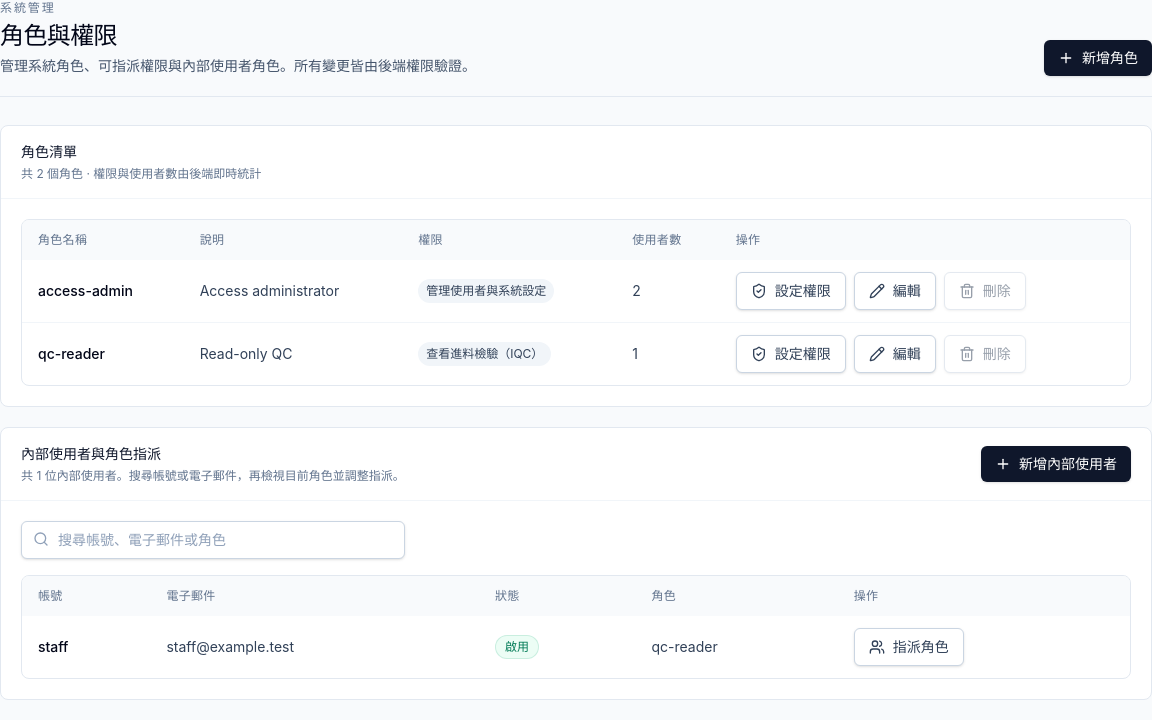
Scenario: roles and permissions admin page › saves role permissions with the selected permission ids
Check: the text "access-admin" is shown, box [22, 260, 184, 322]
Click the button with aria-label "設定權限 access-admin". click: (791, 291)
box: [736, 272, 846, 310]
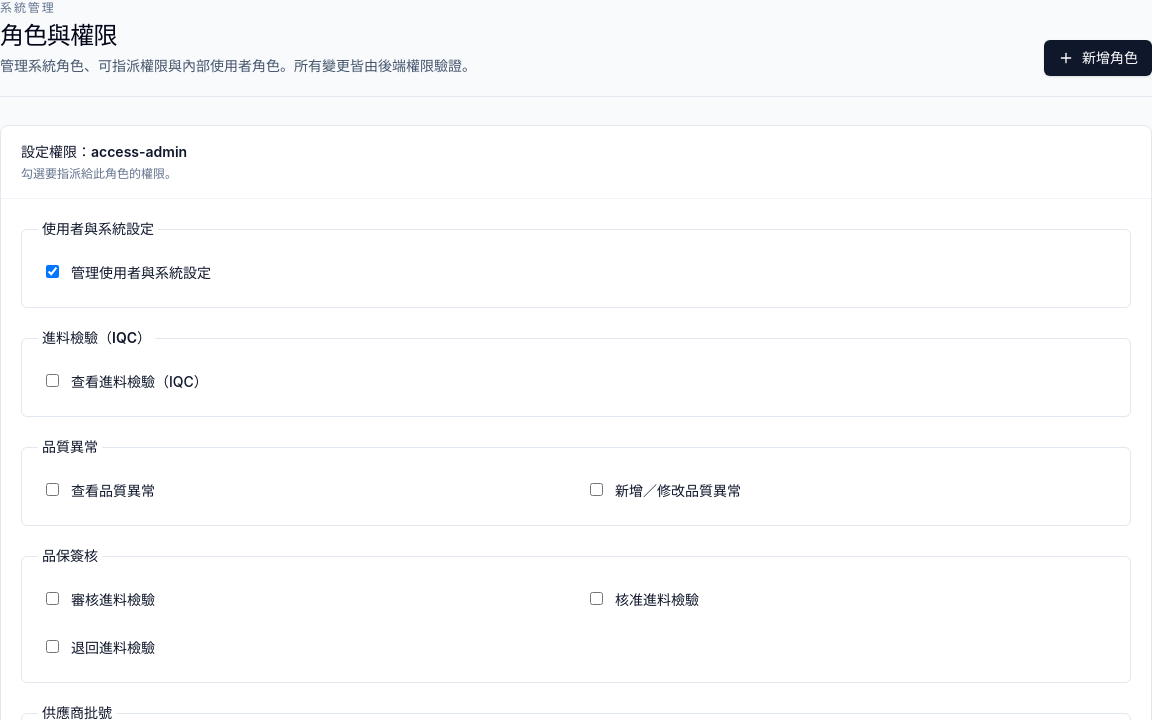
Check: the text "品質異常" is shown, box [38, 437, 102, 457]
Check: the checkbox labelled "查看品質異常" is shown, box [46, 483, 59, 496]
Check: the checkbox labelled "新增／修改品質異常" is shown, box [590, 483, 603, 496]
Click the checkbox named "讀取 IQC". click: (52, 380)
box: [46, 374, 59, 387]
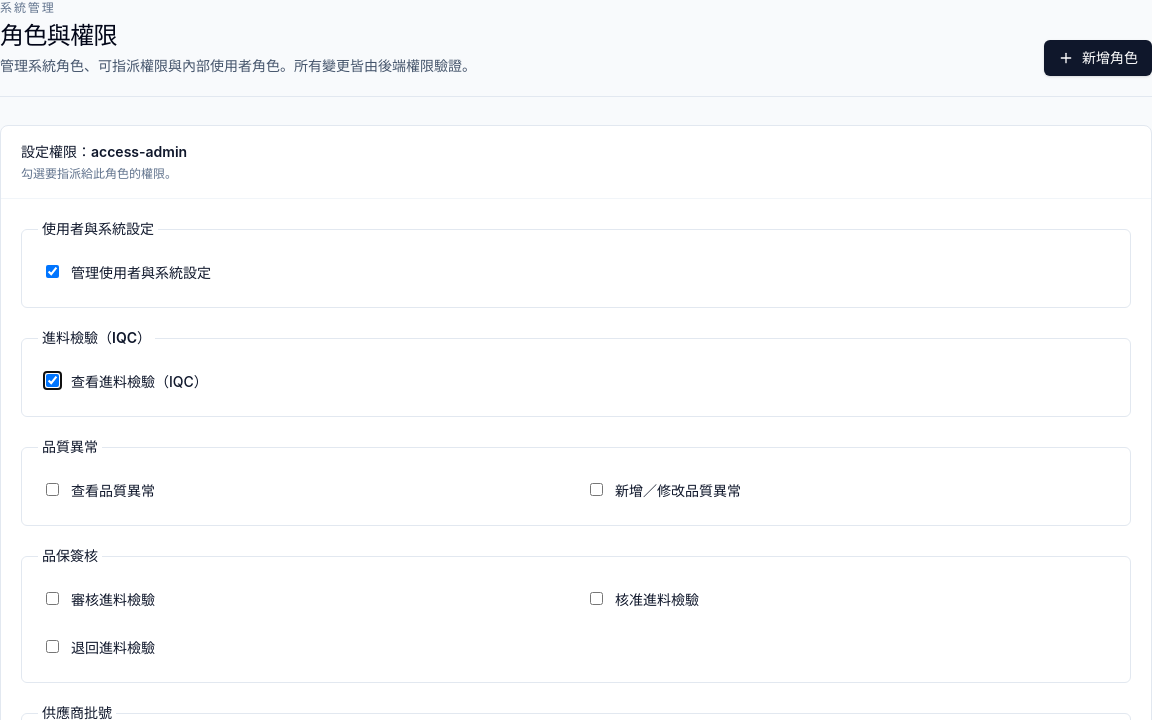
Click the checkbox labelled "查看品質異常". click: (52, 490)
box: [46, 483, 59, 496]
(page scrolled)
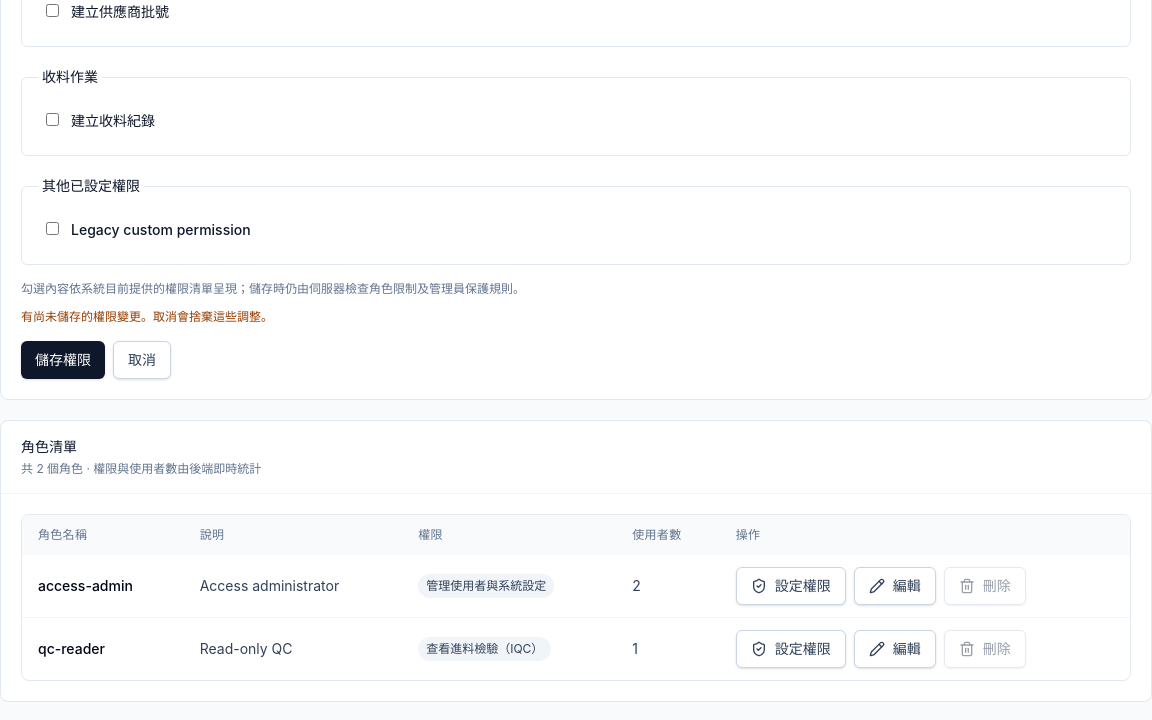
Click the button "儲存權限". click: (63, 360)
box: [21, 341, 105, 379]
(page scrolled)
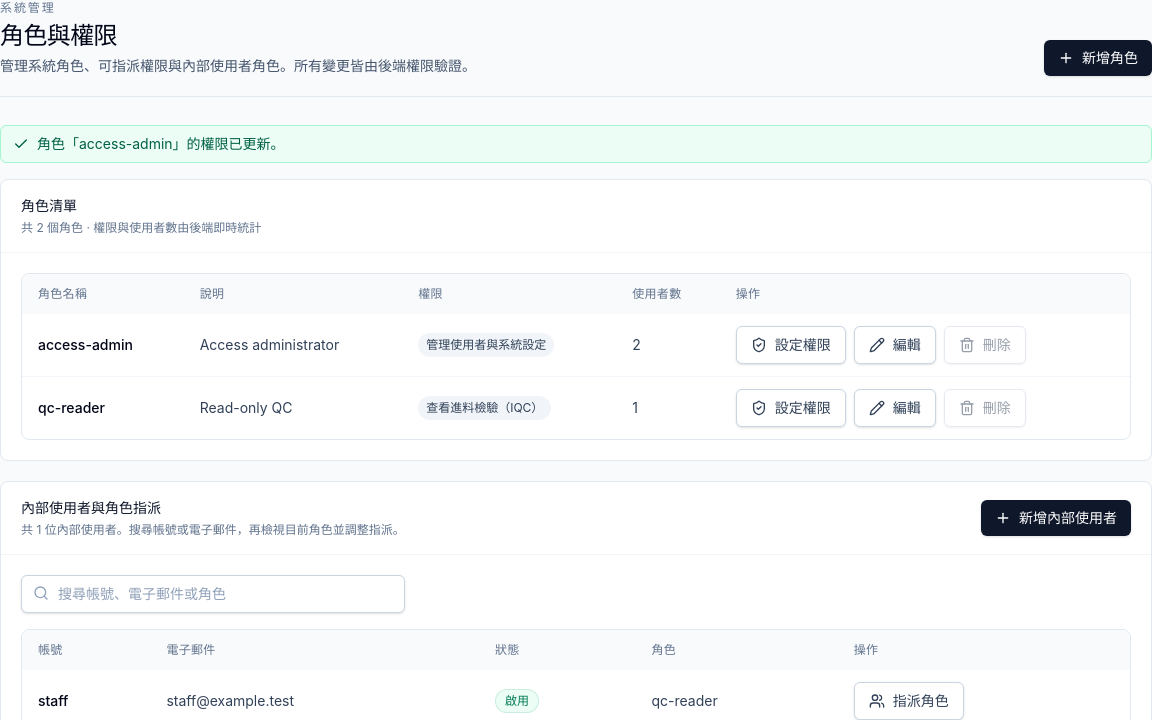
Check: the text "角色「access-admin」的權限已更新。" is shown, box [0, 125, 1151, 163]
